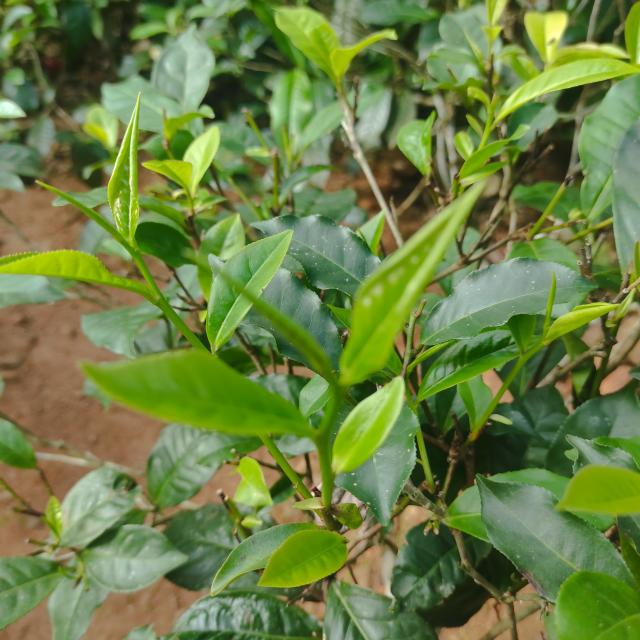unopened_leaf: (199, 249, 351, 399), (28, 174, 146, 267), (534, 268, 569, 344), (412, 105, 444, 186), (403, 336, 460, 380), (301, 14, 339, 69), (605, 282, 640, 332), (32, 508, 69, 550)
